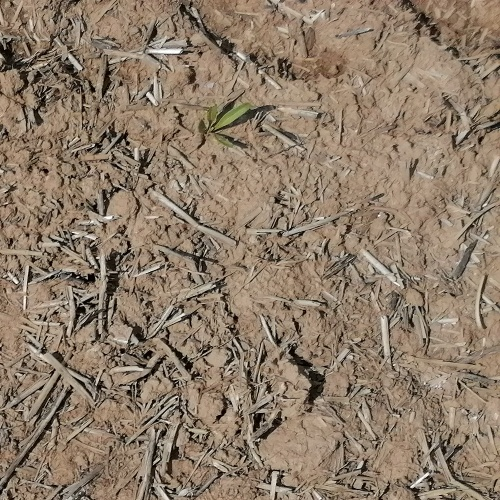beet: (194, 99, 251, 147)
